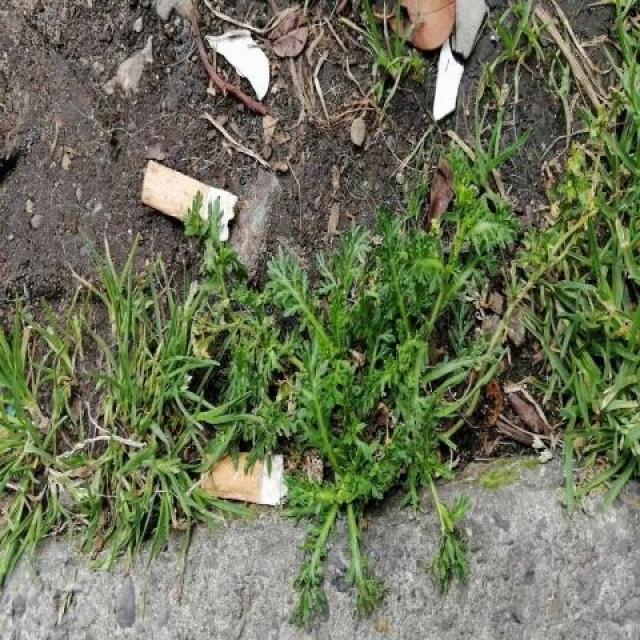non-organic waste: (137, 156, 240, 248), (196, 442, 289, 510)
